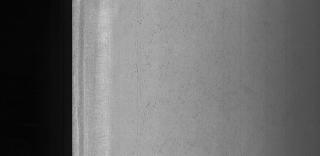silk spot: (136, 11, 256, 135)
